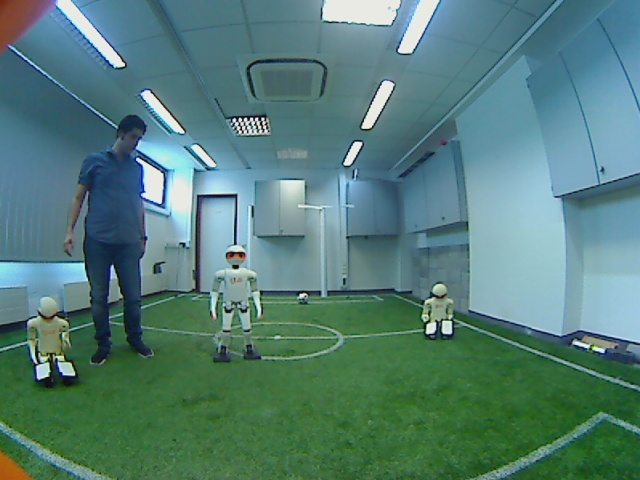ball: (293, 289, 315, 309)
robot: (202, 243, 267, 367), (19, 291, 88, 387), (413, 281, 461, 347)
